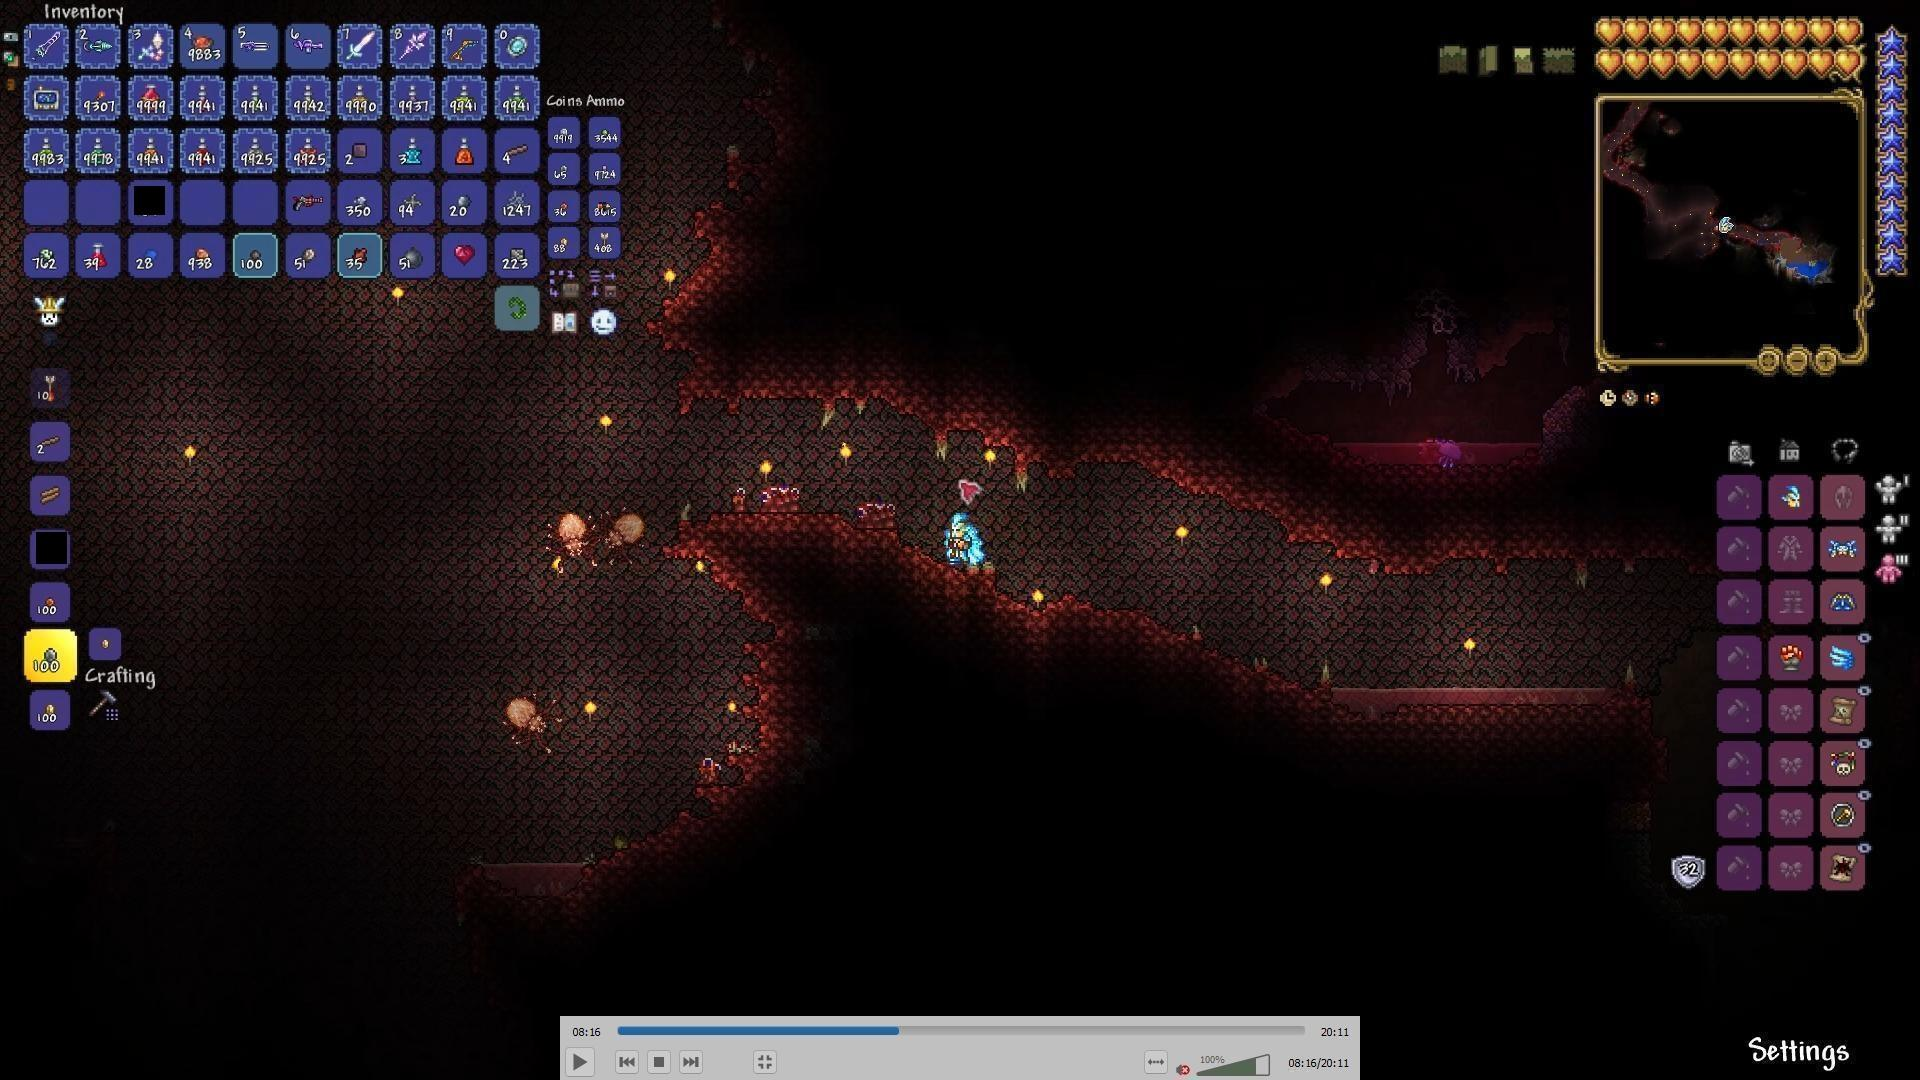wood: (36, 483, 65, 506)
